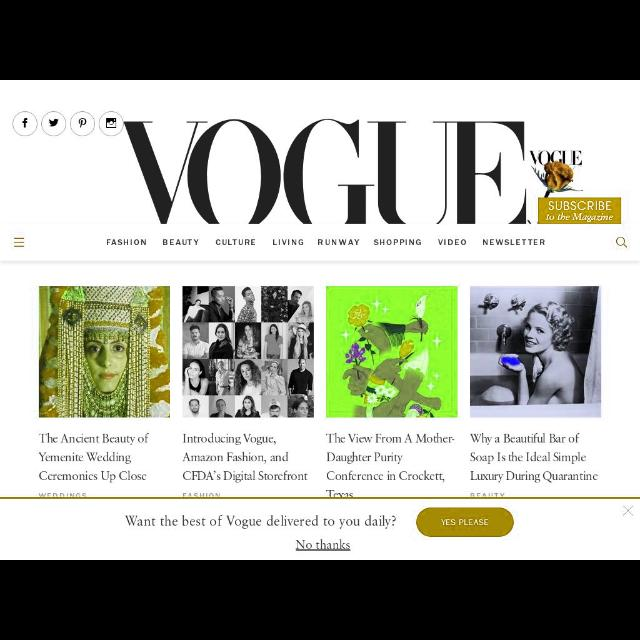button: (12, 112, 38, 136), (70, 112, 96, 136), (42, 112, 66, 136), (100, 112, 122, 136)
icon: (614, 238, 630, 248), (622, 506, 636, 516), (12, 238, 26, 248), (106, 118, 118, 128), (77, 118, 87, 128), (49, 119, 59, 127), (22, 118, 28, 128)
image: (123, 120, 527, 224), (39, 286, 171, 418), (326, 287, 458, 419), (470, 286, 602, 418), (182, 286, 312, 416), (528, 120, 622, 224)
panel: (1, 498, 640, 558)
text: (324, 432, 456, 484), (468, 432, 600, 484), (182, 432, 308, 482), (38, 433, 152, 483), (125, 515, 398, 529), (293, 539, 353, 551), (482, 238, 546, 246), (440, 518, 490, 526), (214, 238, 256, 246), (318, 238, 359, 246), (162, 238, 200, 246), (38, 491, 86, 497), (374, 239, 421, 245), (272, 238, 304, 246), (106, 239, 146, 245), (182, 492, 220, 498), (436, 240, 466, 247), (325, 489, 353, 496), (468, 492, 504, 496)
textbutton: (416, 506, 514, 536)
toolbar: (1, 224, 639, 262)
